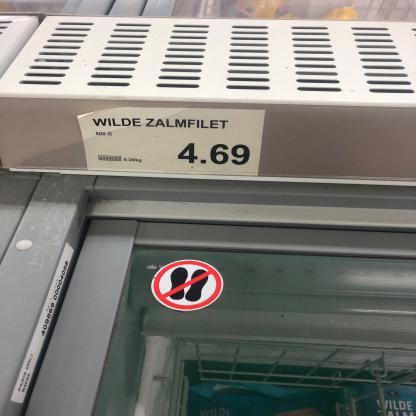prtg: (77, 107, 267, 178)
